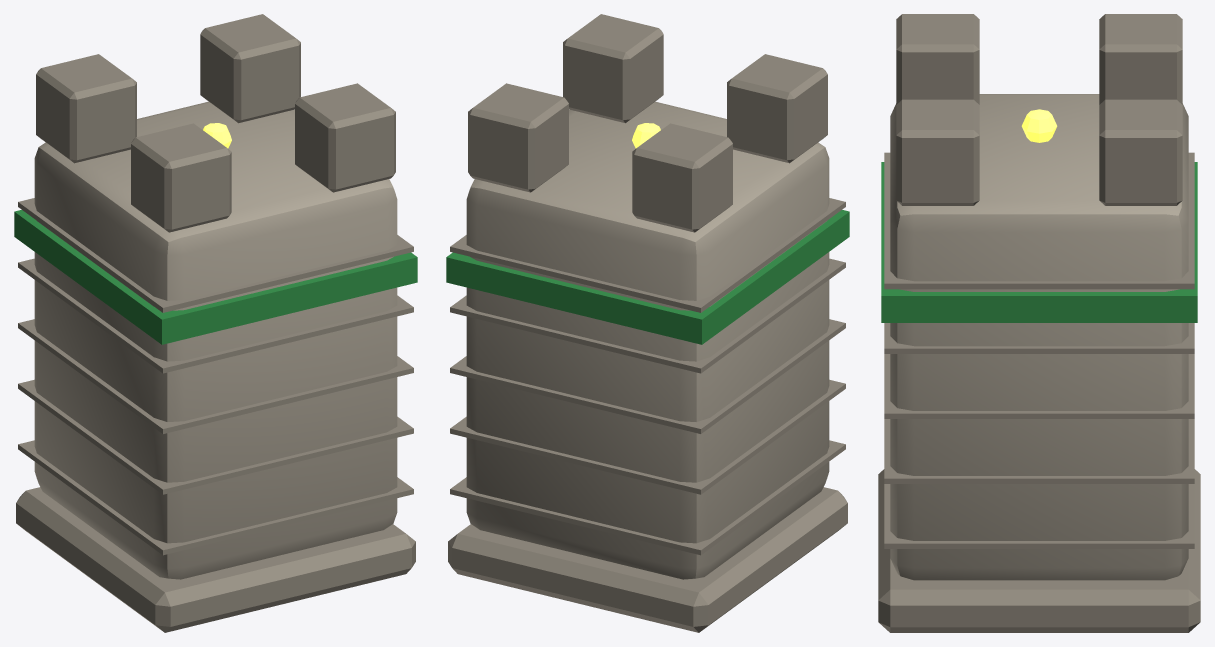
Rendered from wallChn.glb.
3 renders of one model, left to right at view 1: azimuth 30°, elevation 25°; view 2: azimuth 150°, elevation 25°; view 3: azimuth 270°, elevation 25°, orthographic. The views are drawn at different scales.
Visible parts, largest first — view 1: WallChn_Walls, WallChn_Details, WallChn_Foundation; view 2: WallChn_Walls, WallChn_Details, WallChn_Foundation; view 3: WallChn_Walls, WallChn_Details, WallChn_Foundation.
Boxes of the visible parts, x1,y1,x2,y2 form: WallChn_Walls: (34,101,397,579); WallChn_Details: (14,14,417,555); WallChn_Foundation: (16,487,415,632); WallChn_Walls: (466,101,829,579); WallChn_Details: (446,14,849,555); WallChn_Foundation: (448,487,847,632); WallChn_Walls: (890,94,1188,580); WallChn_Details: (881,14,1197,548); WallChn_Foundation: (878,469,1200,632).
Size of the model in its own units: 0.54 by 0.92 by 0.54.
